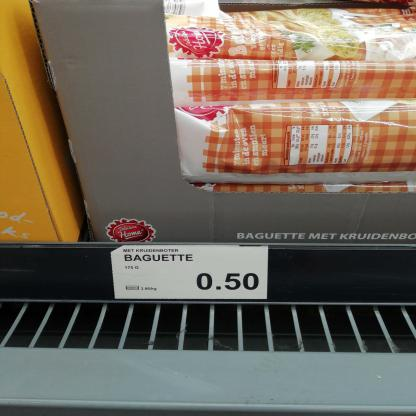prtg: (110, 246, 269, 300)
